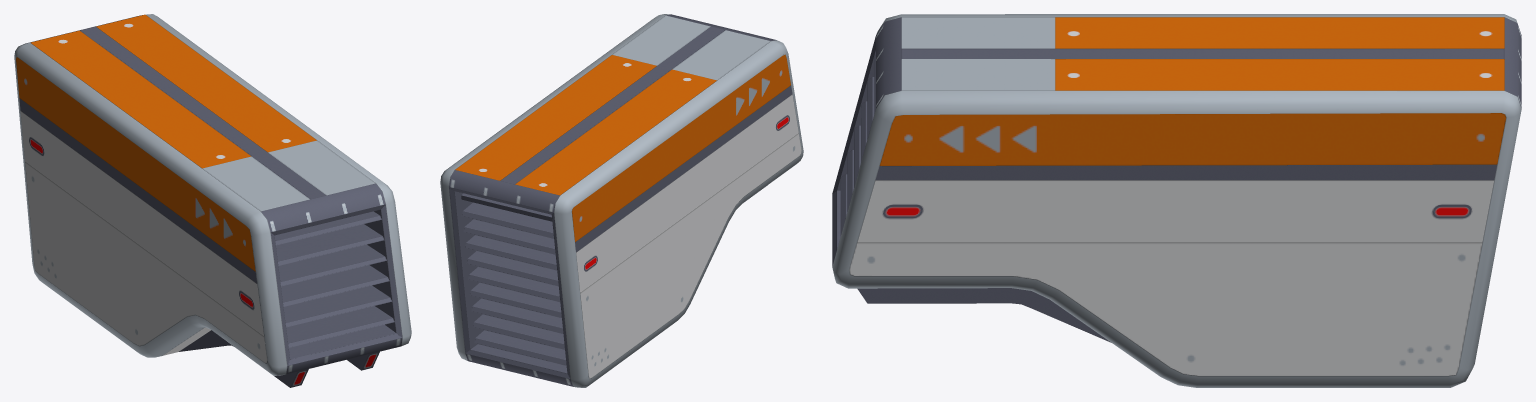
The model's file is Reactor_03.FBX.
The picture shows the model from 3 angles, left to right: view 1: azimuth 30°, elevation 25°; view 2: azimuth 150°, elevation 25°; view 3: azimuth 270°, elevation 25°; orthographic projection. The views are drawn at different scales.
Visible parts, largest first — view 1: Reactor_03; view 2: Reactor_03; view 3: Reactor_03.
Part boxes in pixels (x1,y1,x2,y2): Reactor_03: [14, 14, 411, 387]; Reactor_03: [440, 14, 803, 387]; Reactor_03: [832, 14, 1521, 387].
Size of the model in its own units: 4 by 6.05 by 12.84.
